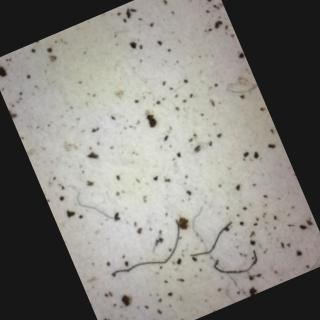Microplastic: (105, 226, 189, 282), (62, 165, 126, 238), (184, 220, 240, 258), (213, 244, 262, 282)
